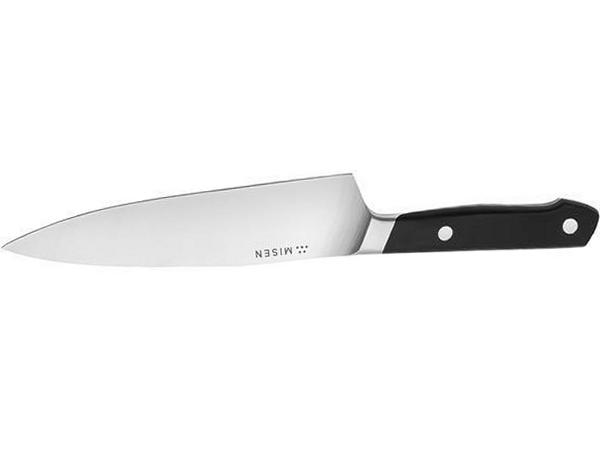knife: (1, 172, 600, 267)
